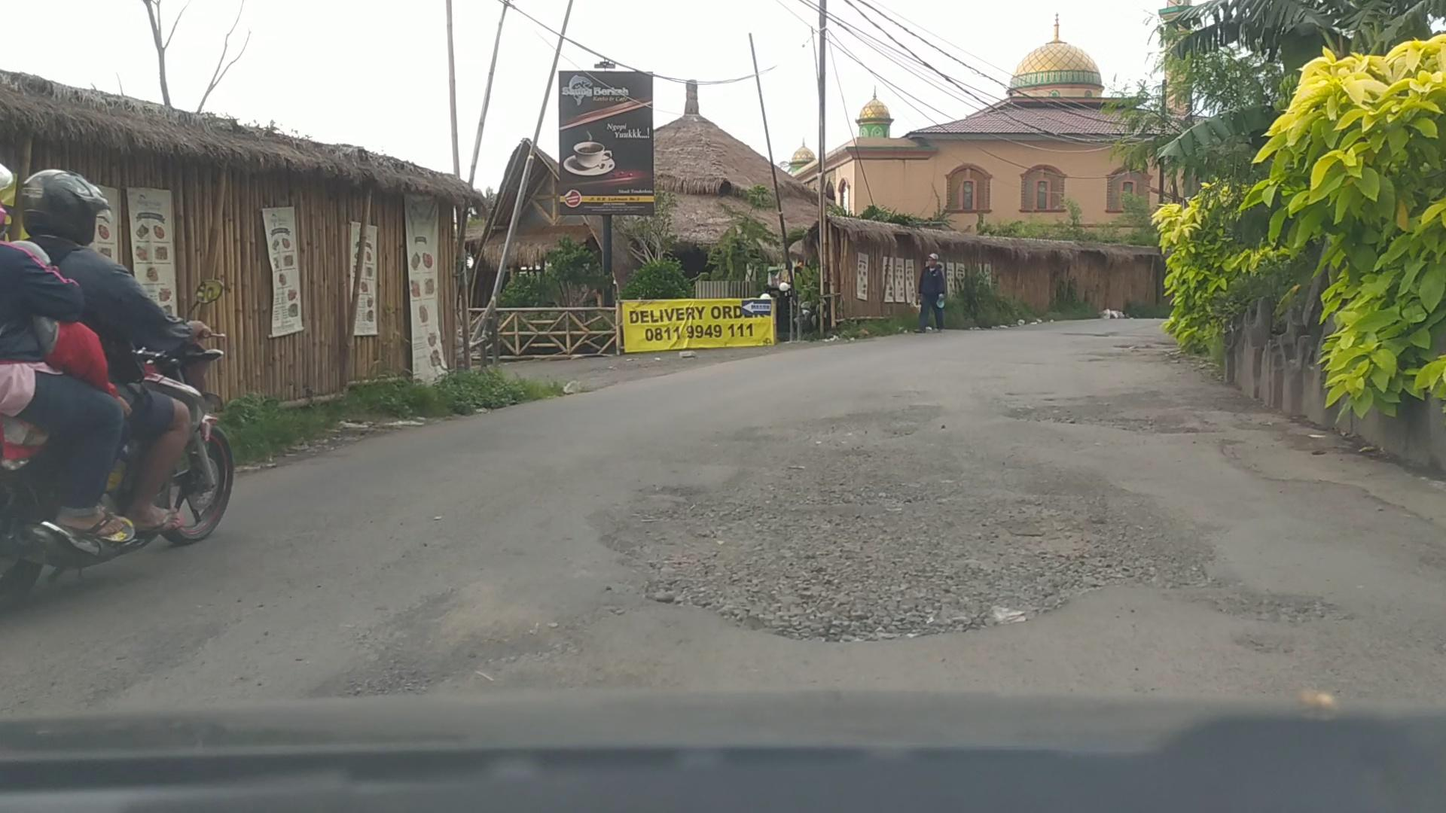pothole: (588, 405, 1347, 648), (1004, 404, 1226, 436), (1061, 331, 1119, 337), (1113, 344, 1158, 350)
